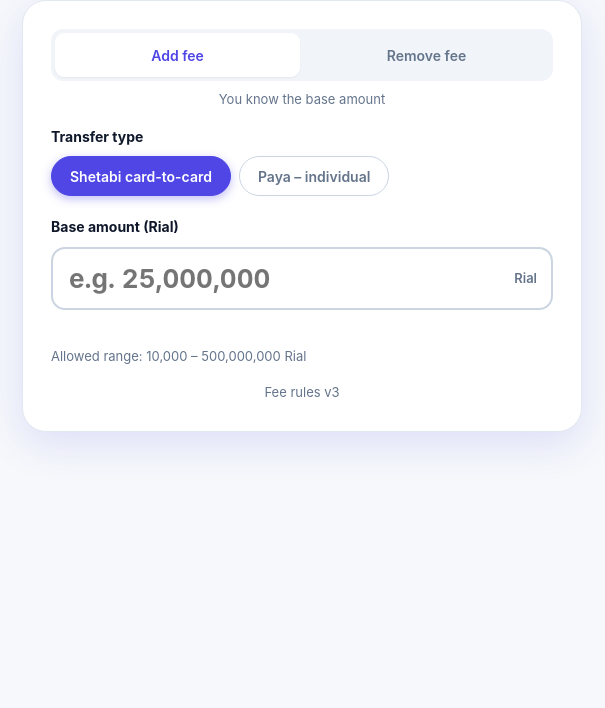
Test: Calculator › switches transfer type and recalculates
The image size is (605, 708).
Check: the button "Shetabi card-to-card" is shown, box [51,156,231,196]
Type "25000000" into the field labelled "Base amount (Rial)" at (302, 278), box [51,247,553,310]
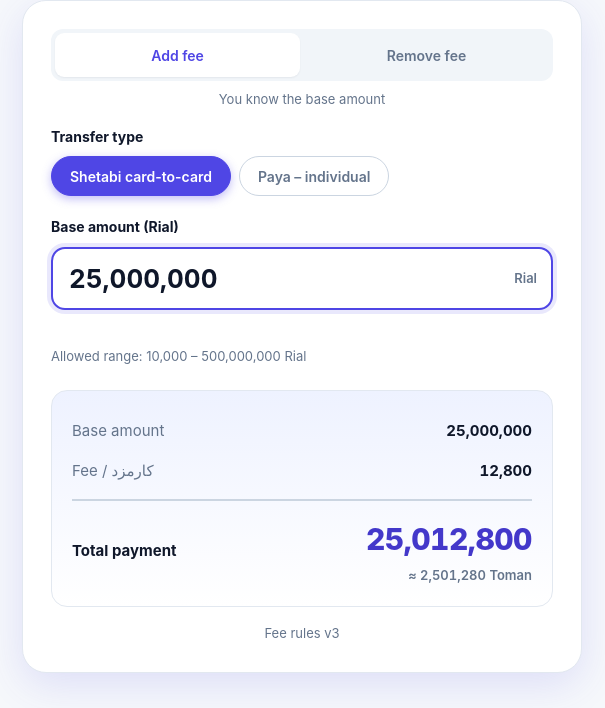
Check: the text "25,012,800" is shown, box [366,521,532,557]
Click the button "Paya – individual" at (314, 176), box [239,156,389,196]
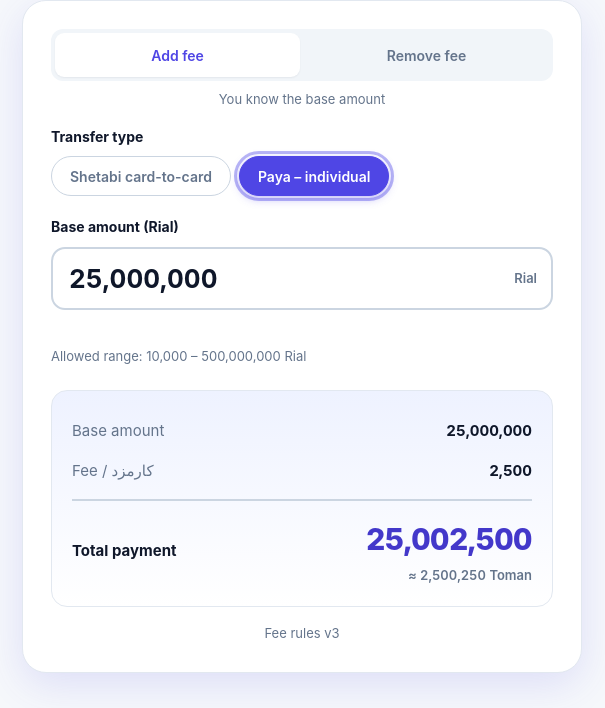
Check: the text "2,500" is shown, box [489,459,532,483]
Check: the text "25,002,500" is shown, box [366,521,532,557]
